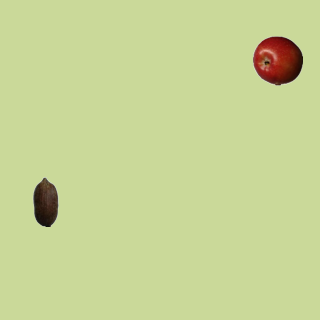Apple Braeburn: (252, 35, 302, 85)
Nut Pecan: (20, 176, 70, 226)
